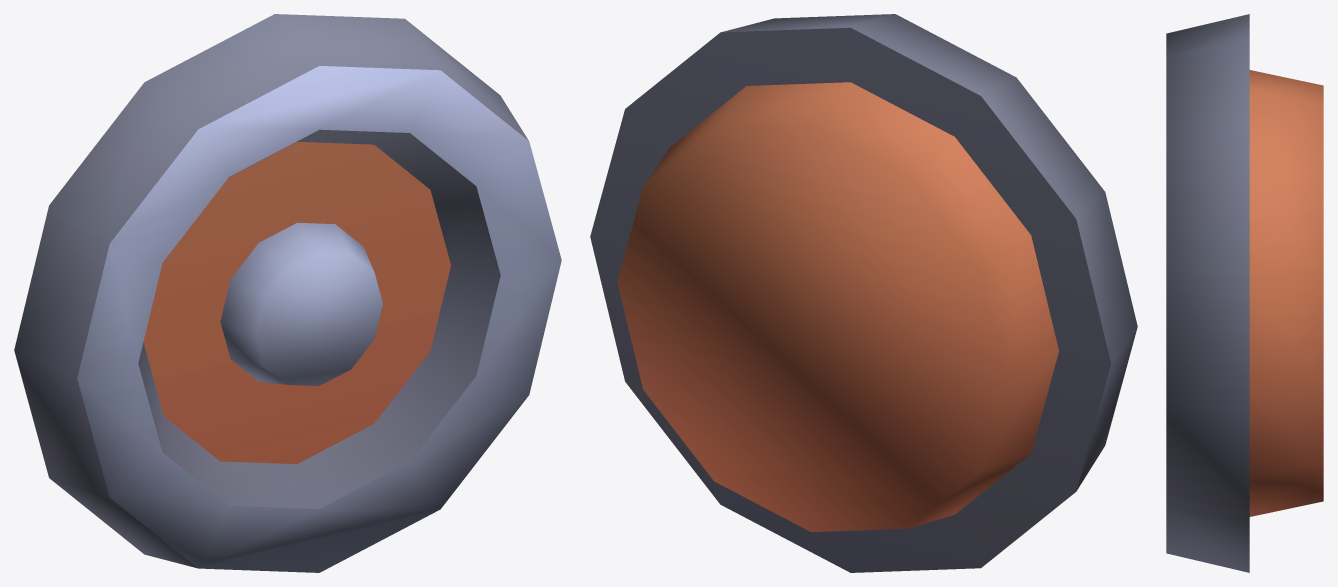
File: round_shield.glb
3 renders of one model, left to right at view 1: azimuth 30°, elevation 25°; view 2: azimuth 150°, elevation 25°; view 3: azimuth 270°, elevation 25°, orthographic. The views are drawn at different scales.
Visible parts, largest first — view 1: shield-round; view 2: shield-round; view 3: shield-round.
Boxes of the visible parts, x1,y1,x2,y2 form: shield-round: [14, 14, 561, 572]; shield-round: [590, 14, 1137, 572]; shield-round: [1166, 14, 1323, 572].
Size of the model in its own units: 0.3797 by 0.3797 by 0.1065.
1 material, 1 textured.
